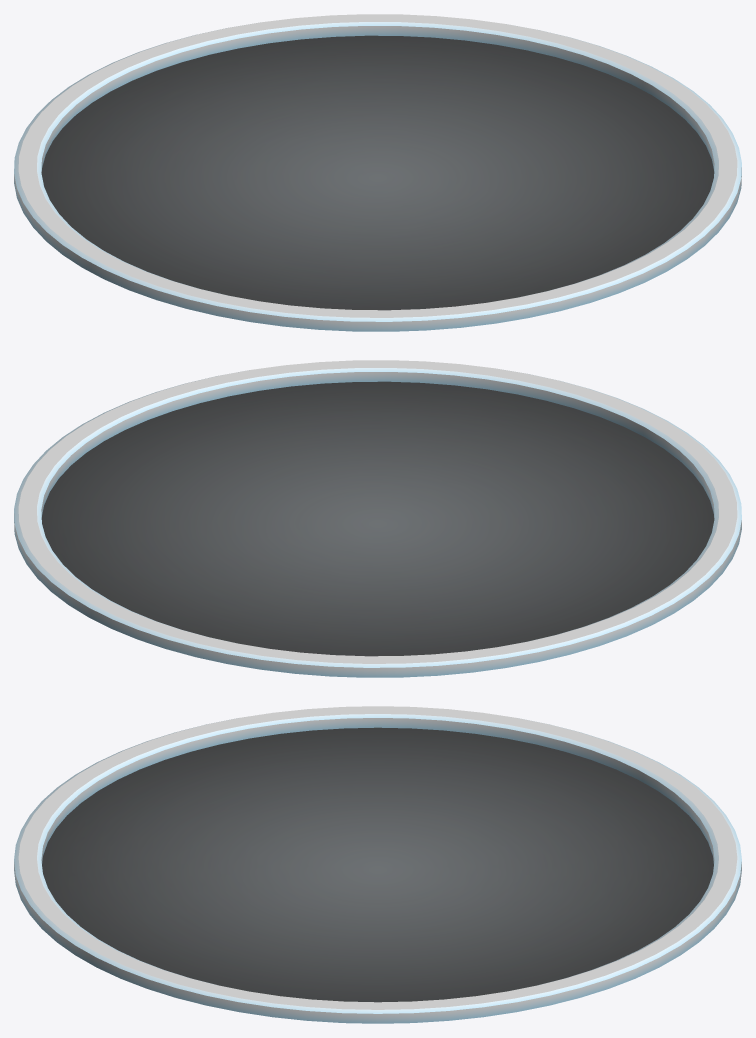
The model's file is Platform.fbx.
The picture shows the model from 3 angles, top to bottom: view 1: azimuth 30°, elevation 25°; view 2: azimuth 150°, elevation 25°; view 3: azimuth 270°, elevation 25°; orthographic projection.
Parts seen in each view (by area): view 1: Platform_1B.001; view 2: Platform_1B.001; view 3: Platform_1B.001.
Part boxes in pixels (x1,y1,x2,y2): Platform_1B.001: (14, 14, 741, 331); Platform_1B.001: (14, 360, 741, 677); Platform_1B.001: (14, 706, 741, 1023).
Size of the model in its own units: 6.4 by 0.1157 by 6.4.
Materials: 1 (1 with a texture image).
